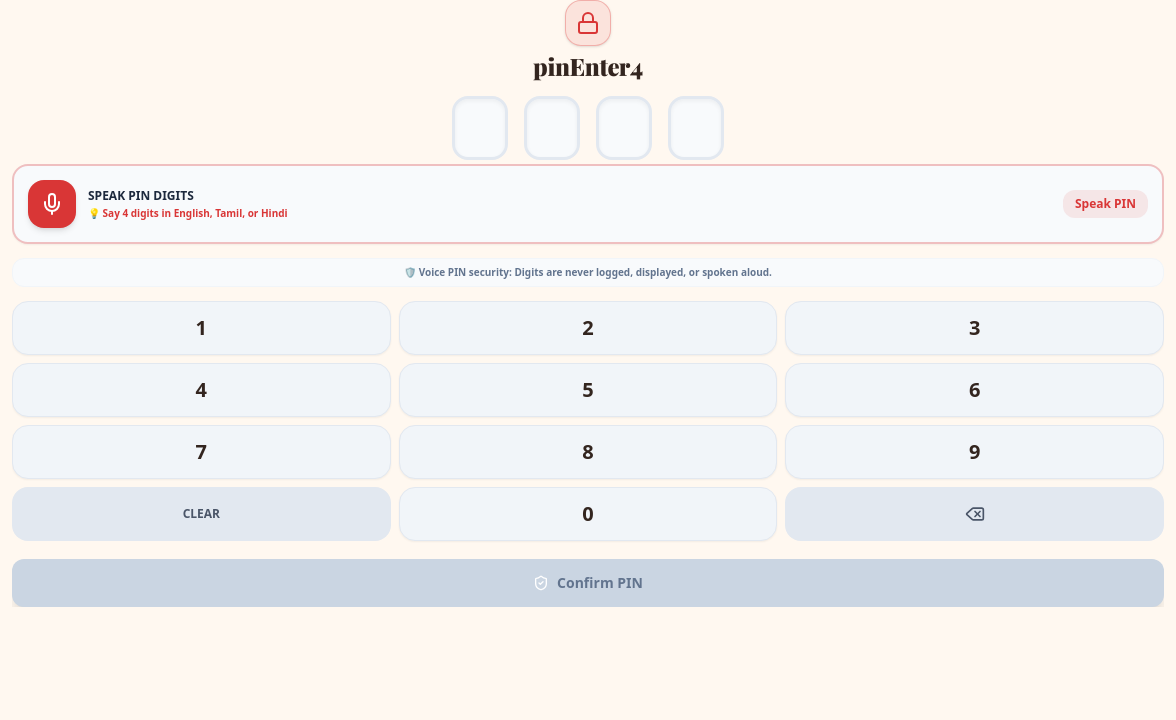
Test: REAL RTL Component Render Tests (React DOM Testing) › RTL Component Test 22: SecurityPinEntryView 3 digits waits without submitting
Click the button with test id "keypad-digit-1": (201, 328) [12, 301, 391, 355]
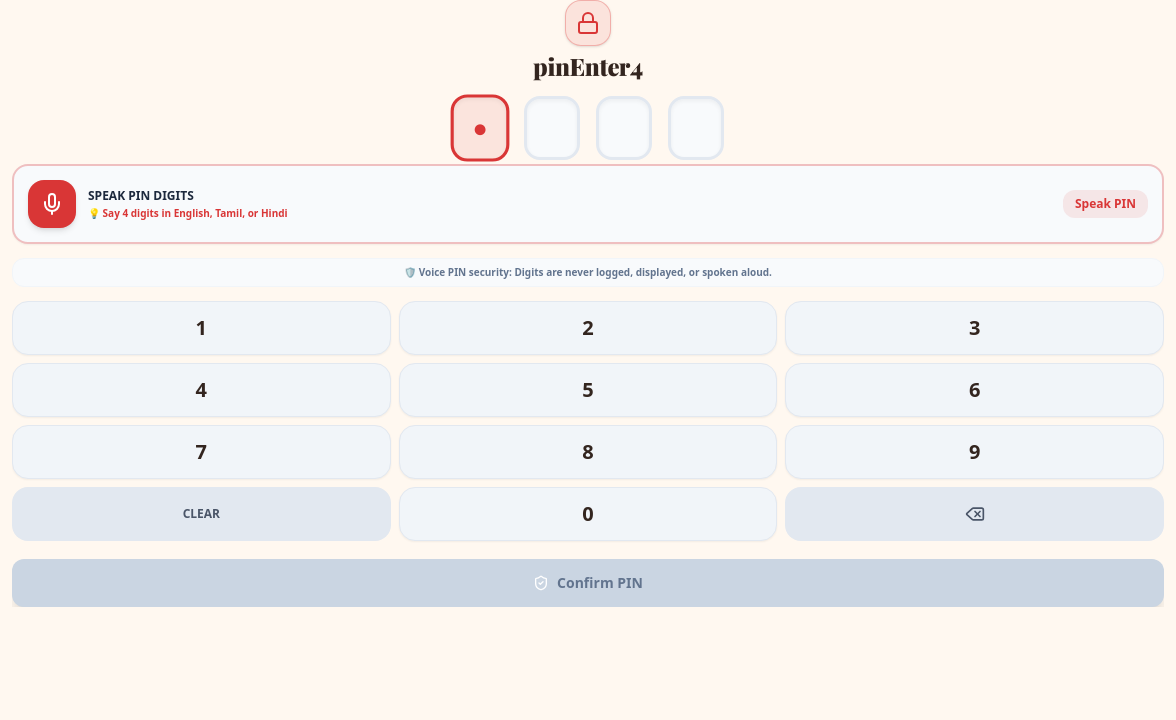
Click the button with test id "keypad-digit-2": (588, 328) [399, 301, 777, 355]
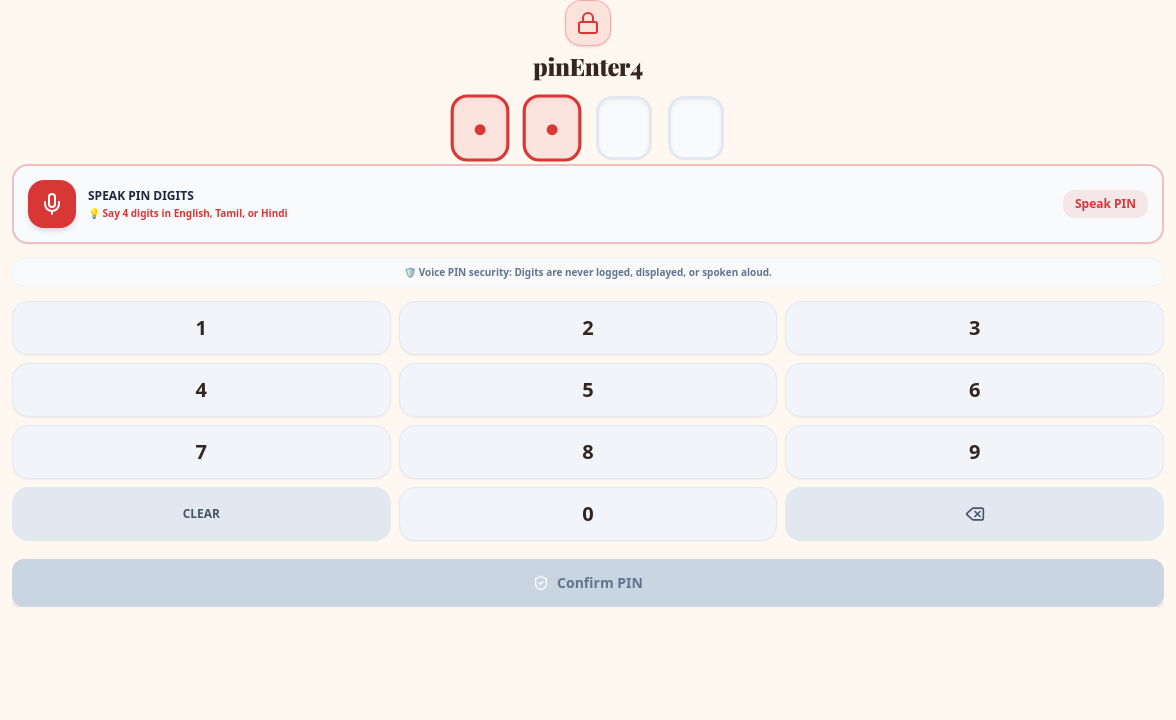
Click the button with test id "keypad-digit-3": (975, 328) [785, 301, 1164, 355]
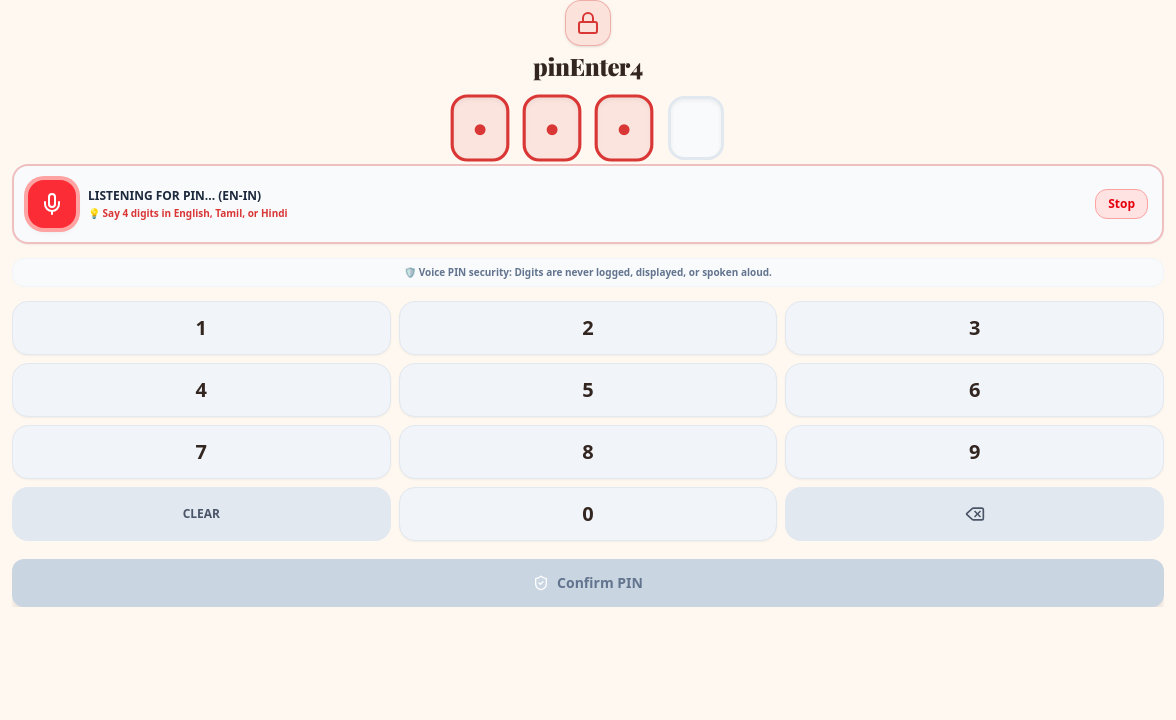
Expected: the text with test id "pin-box-0" reads "●", [472, 110, 488, 145]
Expected: the text with test id "pin-box-1" reads "●", [544, 110, 560, 145]
Expected: the text with test id "pin-box-2" reads "●", [616, 110, 632, 145]
